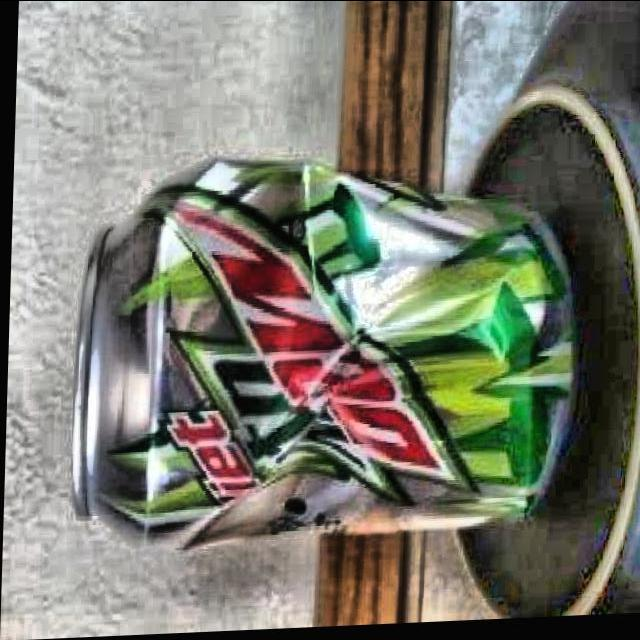litter: (57, 140, 598, 564)
